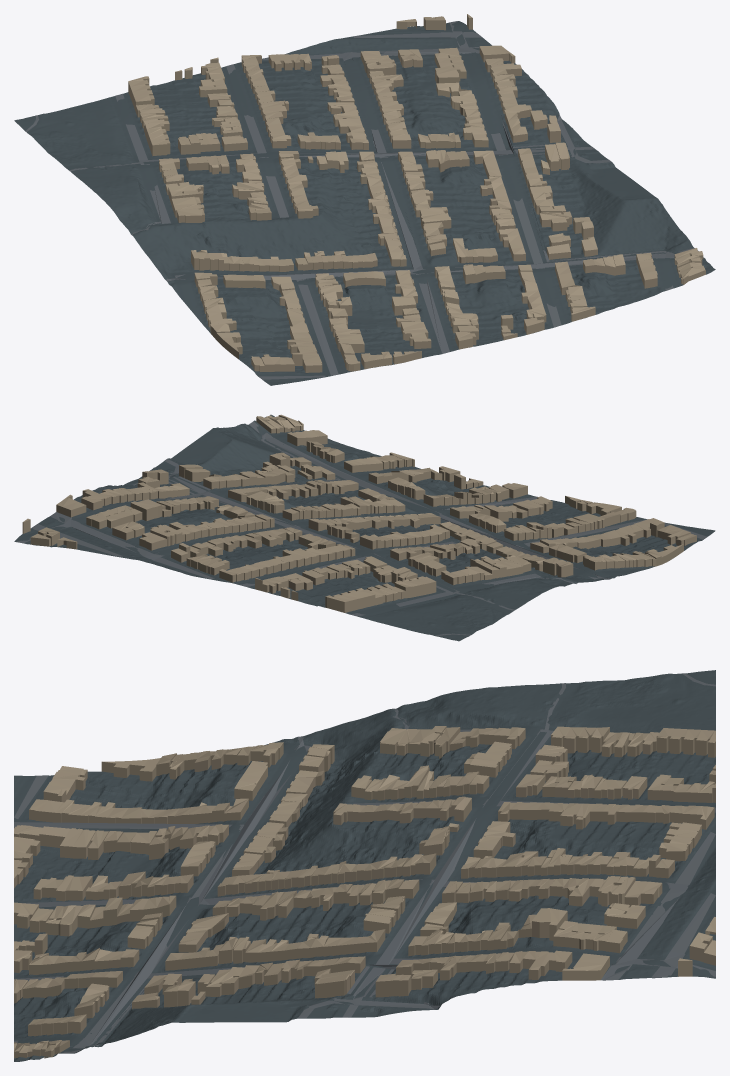
The model's file is epsg26910-1437-10872.lod0.glb.
3 views of the same model, one above another, from view 1: azimuth 30°, elevation 25°; view 2: azimuth 150°, elevation 25°; view 3: azimuth 270°, elevation 25° (orthographic). The views are drawn at different scales.
Parts seen in each view (by area): view 1: epsg26910-1437-10872-lod0; view 2: epsg26910-1437-10872-lod0; view 3: epsg26910-1437-10872-lod0.
Boxes of the visible parts, x1=… form: epsg26910-1437-10872-lod0: x1=14, y1=14, x2=715, y2=385; epsg26910-1437-10872-lod0: x1=14, y1=414, x2=715, y2=641; epsg26910-1437-10872-lod0: x1=14, y1=670, x2=715, y2=1061.
Bounding box in the file's own units: 384 × 84.2 × 384.
